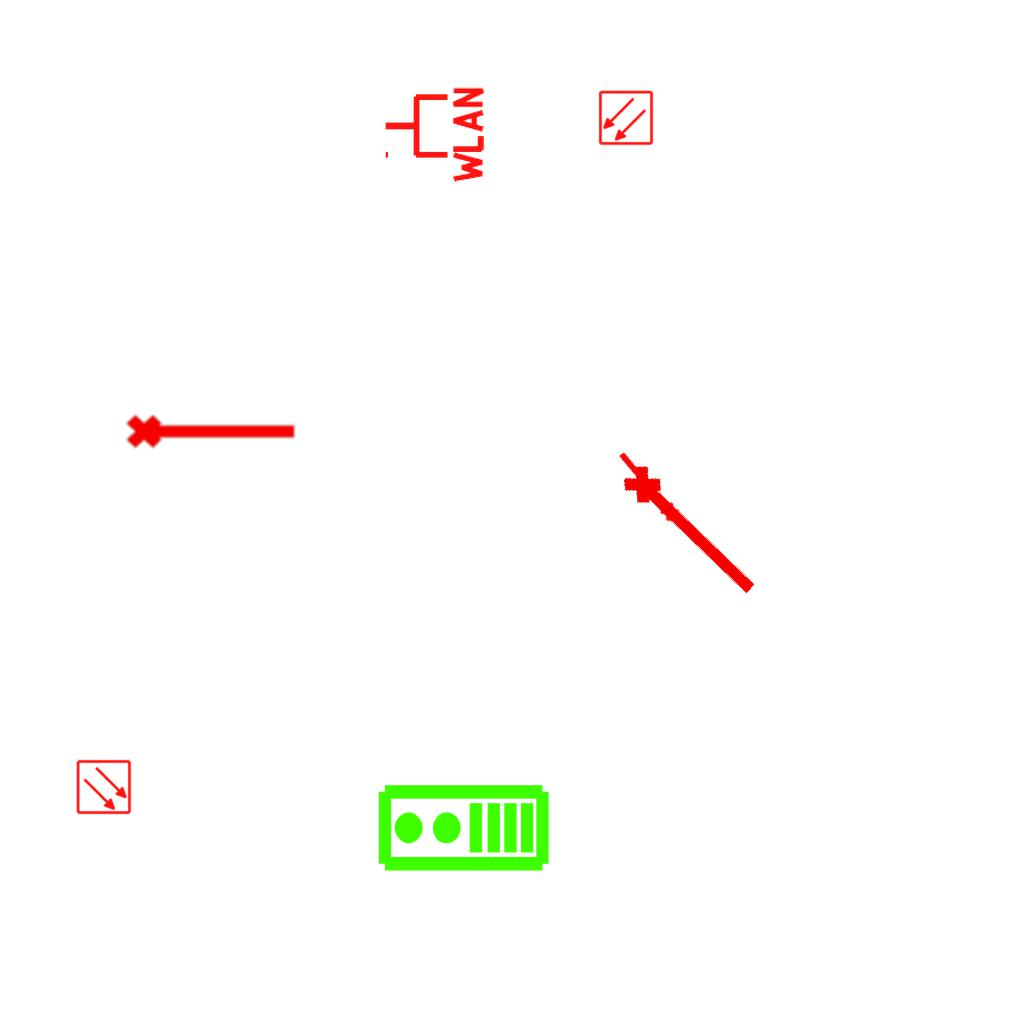ASR_Ansaugoeffnung: (613, 452, 773, 608), (124, 406, 300, 452), (609, 445, 685, 528)
Gegensprechanlage_mit_Video: (375, 782, 551, 877)
RMO_Rauchmelder_optischer: (598, 90, 654, 146), (76, 759, 132, 815)
WLAN: (381, 83, 486, 187)
